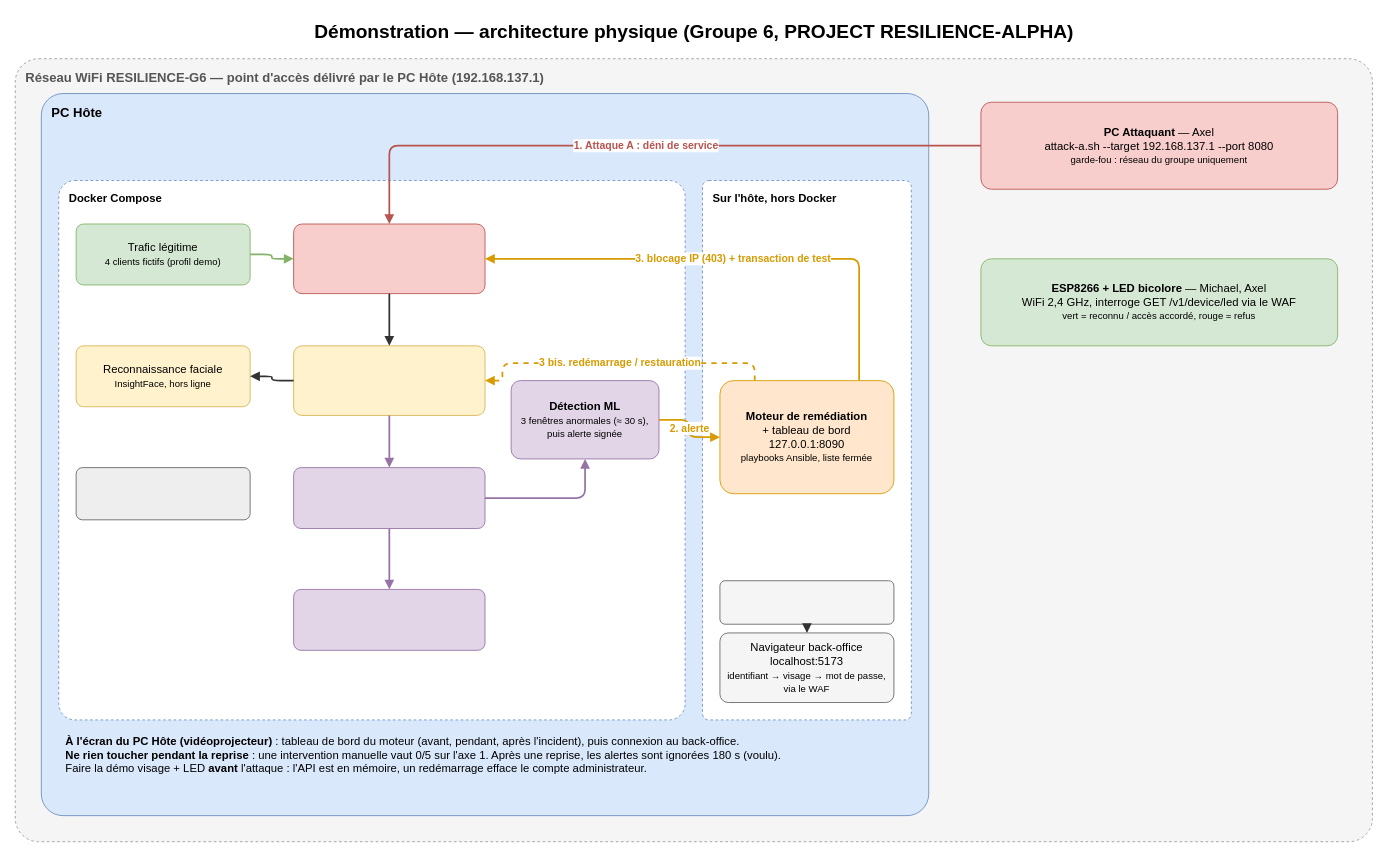
Image size: 1388x857. Some labels were removed from this diagram. Here are the shapes that lost their labels. From the top down, the centre of each, then its label:
At point (389, 258): "WAF ModSecurity + OWASP CRS :8080 — seul point d'entrée".
At point (389, 380): "API Pay&Go paiements, back-office données en mémoire".
At point (162, 493): "Vault (secrets)".
At point (389, 498): "Prometheus + Loki métriques toutes les 5 s, journaux".
At point (389, 619): "Grafana :3000 SOC, plateforme, détection et reprise".
At point (806, 602): "Caméra USB obligatoire sur le PC Hôte".
